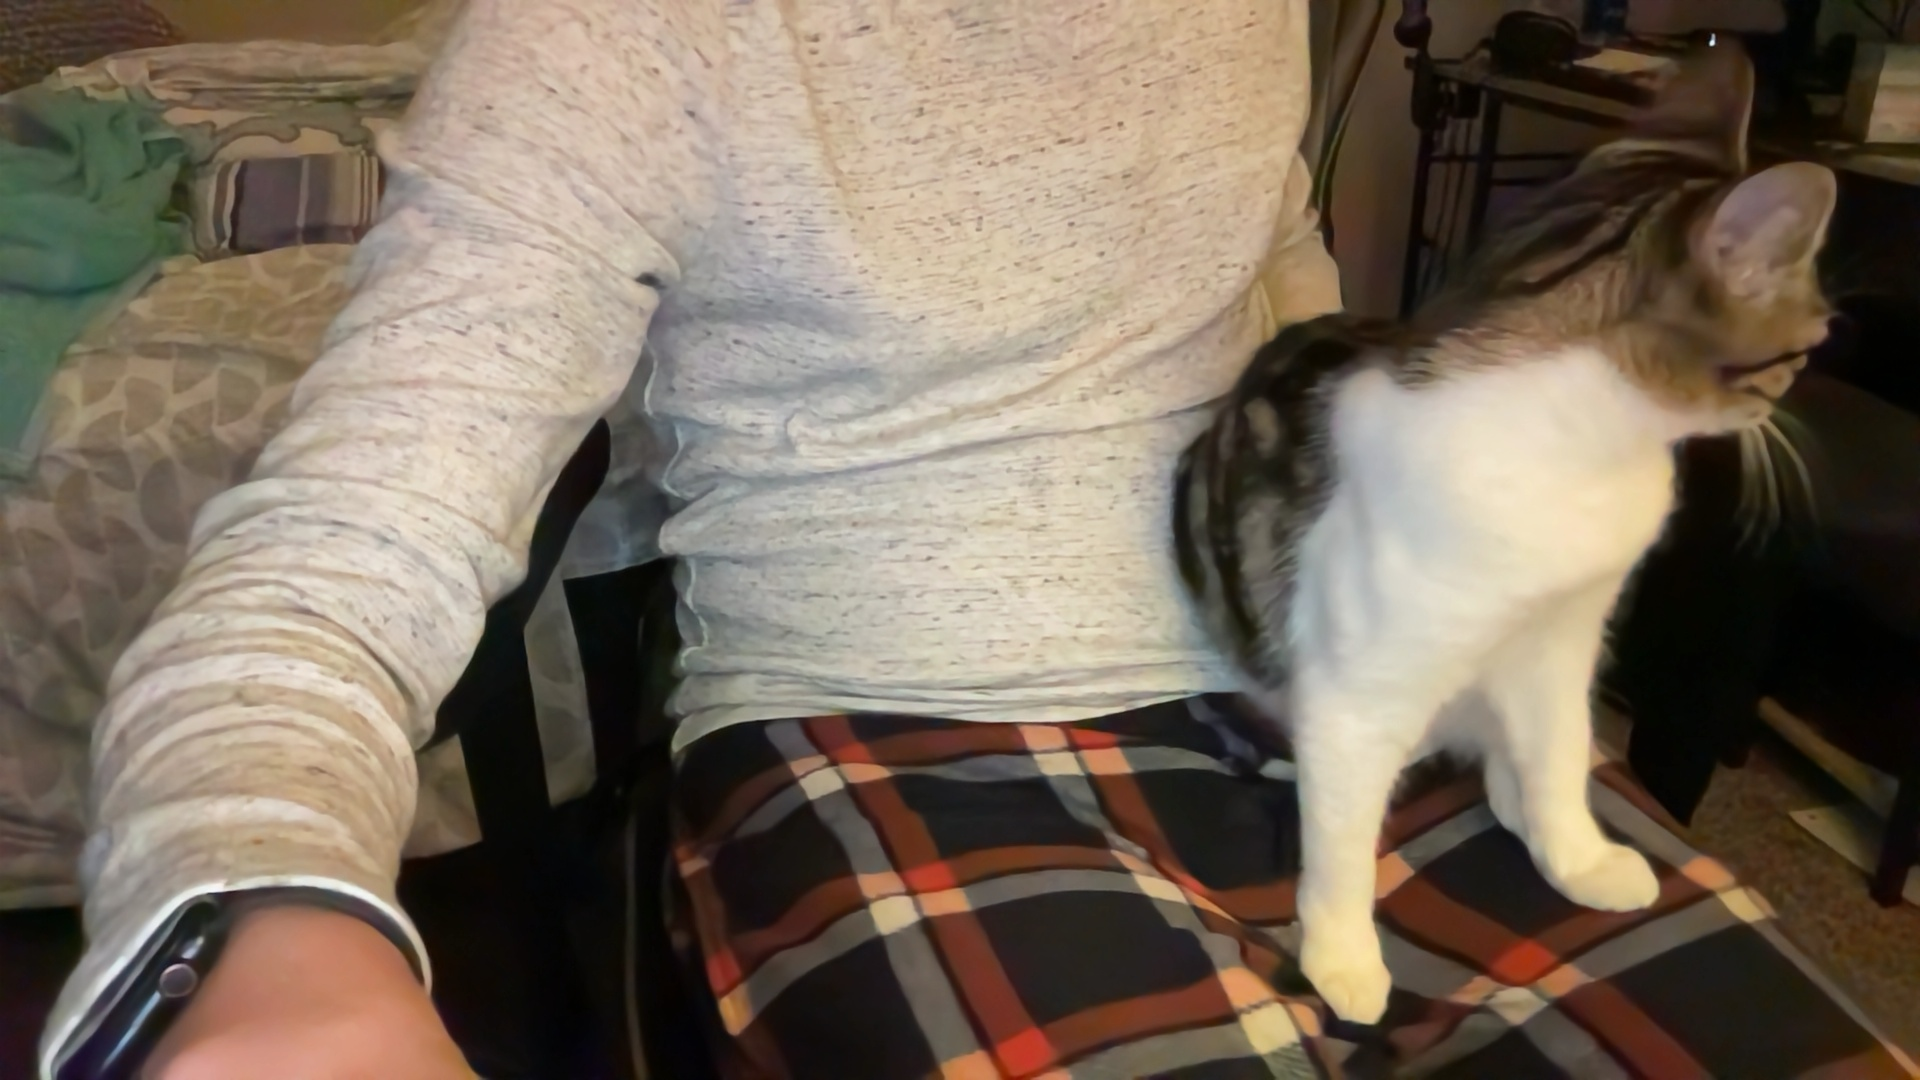cat: (1160, 36, 1849, 1038)
